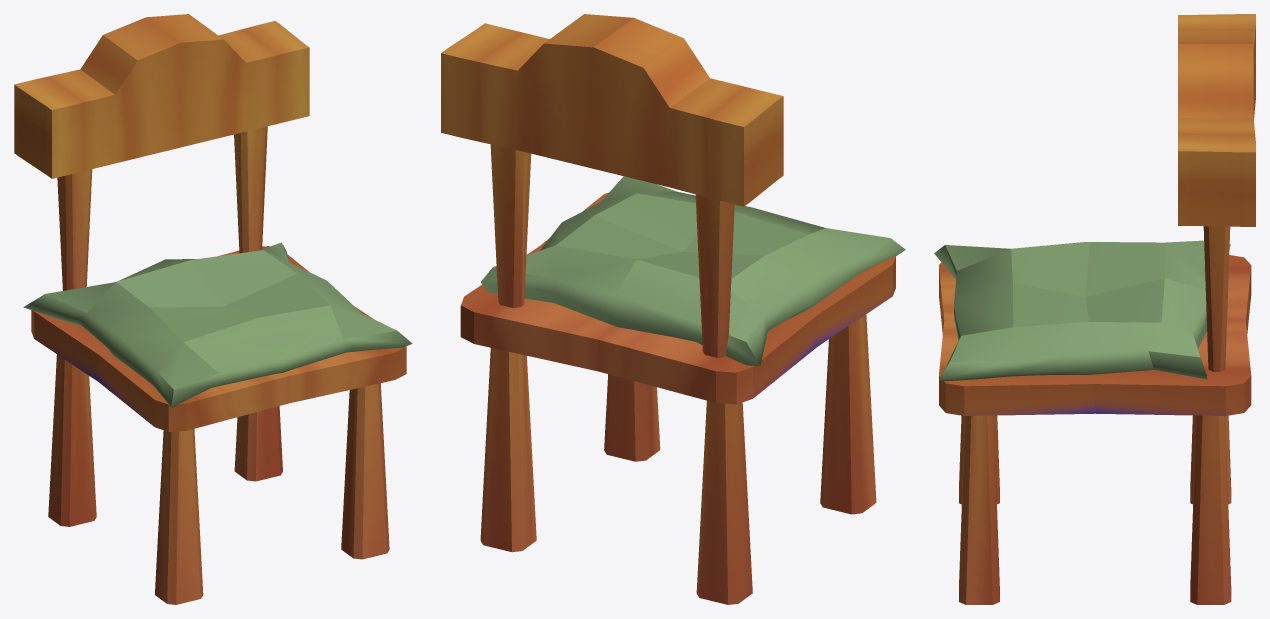
The model's file is sp_chair_kitchen_a.fbx.
3 renders of one model, left to right at view 1: azimuth 30°, elevation 25°; view 2: azimuth 150°, elevation 25°; view 3: azimuth 270°, elevation 25°, orthographic. The views are drawn at different scales.
Parts seen in each view (by area): view 1: sp_chair_kitchen_a; view 2: sp_chair_kitchen_a; view 3: sp_chair_kitchen_a.
Part boxes in pixels (x1,y1,x2,y2): sp_chair_kitchen_a: (14,14,412,604); sp_chair_kitchen_a: (441,14,905,604); sp_chair_kitchen_a: (934,14,1255,604).
Bounding box in the file's own units: 107 × 179 × 104.
